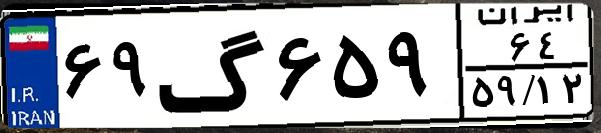1: (535, 70, 560, 125)
2: (560, 70, 590, 125)
4: (537, 27, 568, 80)
5: (330, 28, 385, 110), (470, 70, 495, 125)
6: (270, 28, 330, 110), (57, 26, 110, 100), (508, 27, 537, 80)
9: (385, 28, 445, 110), (110, 28, 156, 98), (495, 70, 520, 125)
گ: (156, 12, 270, 120)
